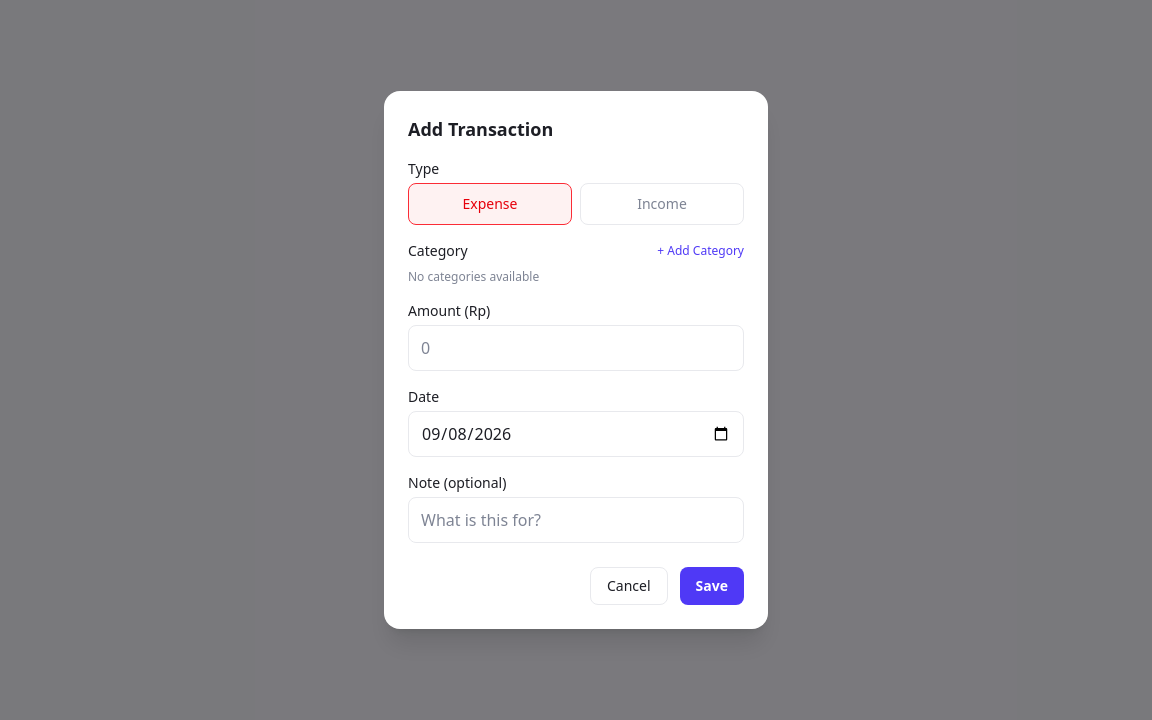
Scenario: AddTransactionModal - Fix income › shows weekly/monthly toggle when fix income checked
What coordinates should you click on to do the following:
click the button "Income"
I would click on:
 (662, 204)
Its box is 580,183 -> 744,225.
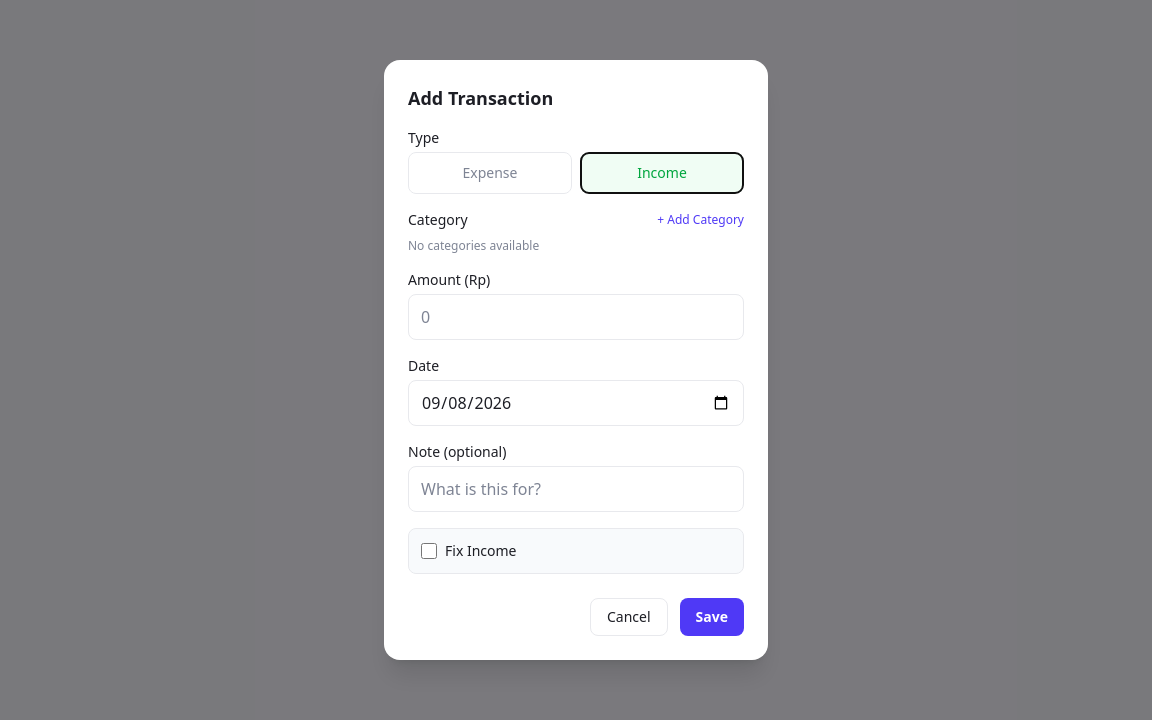
What coordinates should you click on to do the following:
click the checkbox
I would click on:
 (429, 551)
Its box is 421,543 -> 437,559.
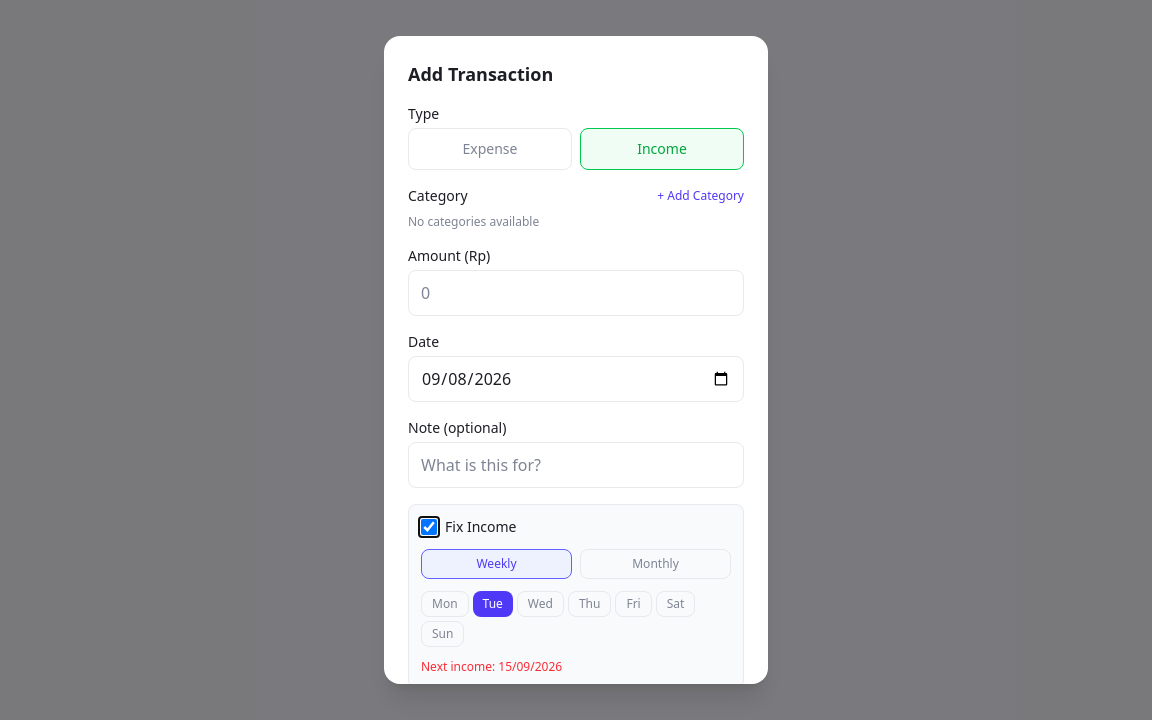
Check: the button "Weekly" is shown, box 421,549 -> 572,579
Check: the button "Monthly" is shown, box 580,549 -> 731,579
